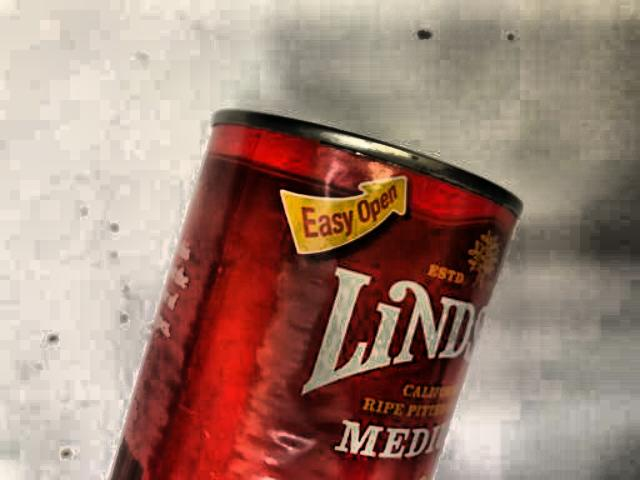Almennt: (80, 82, 531, 480)
